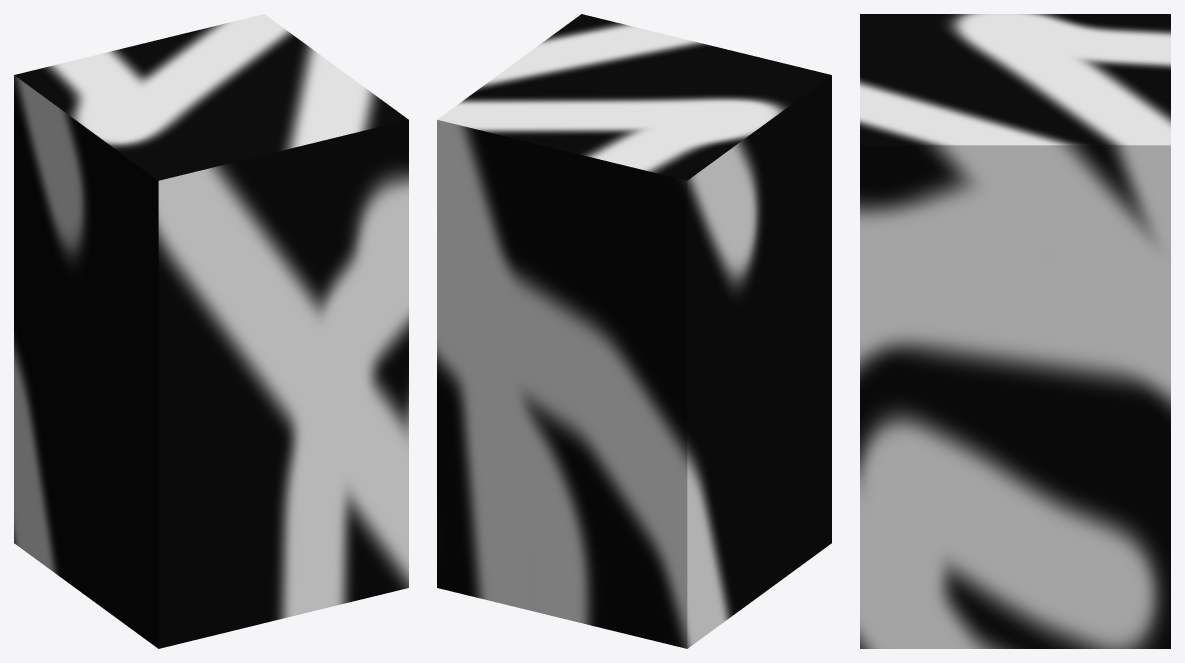
The model's file is tower.obj.
3 views of the same model, side by side, from view 1: azimuth 30°, elevation 25°; view 2: azimuth 150°, elevation 25°; view 3: azimuth 270°, elevation 25° (orthographic). The views are drawn at different scales.
Parts seen in each view (by area): view 1: Cube; view 2: Cube; view 3: Cube.
Part boxes in pixels (bbox=[...]): Cube: bbox=[14, 14, 408, 648]; Cube: bbox=[437, 14, 831, 648]; Cube: bbox=[860, 14, 1170, 648].
Bounding box in the file's own units: 6.51 × 11.64 × 6.51.
Materials: 2 (1 with a texture image).
